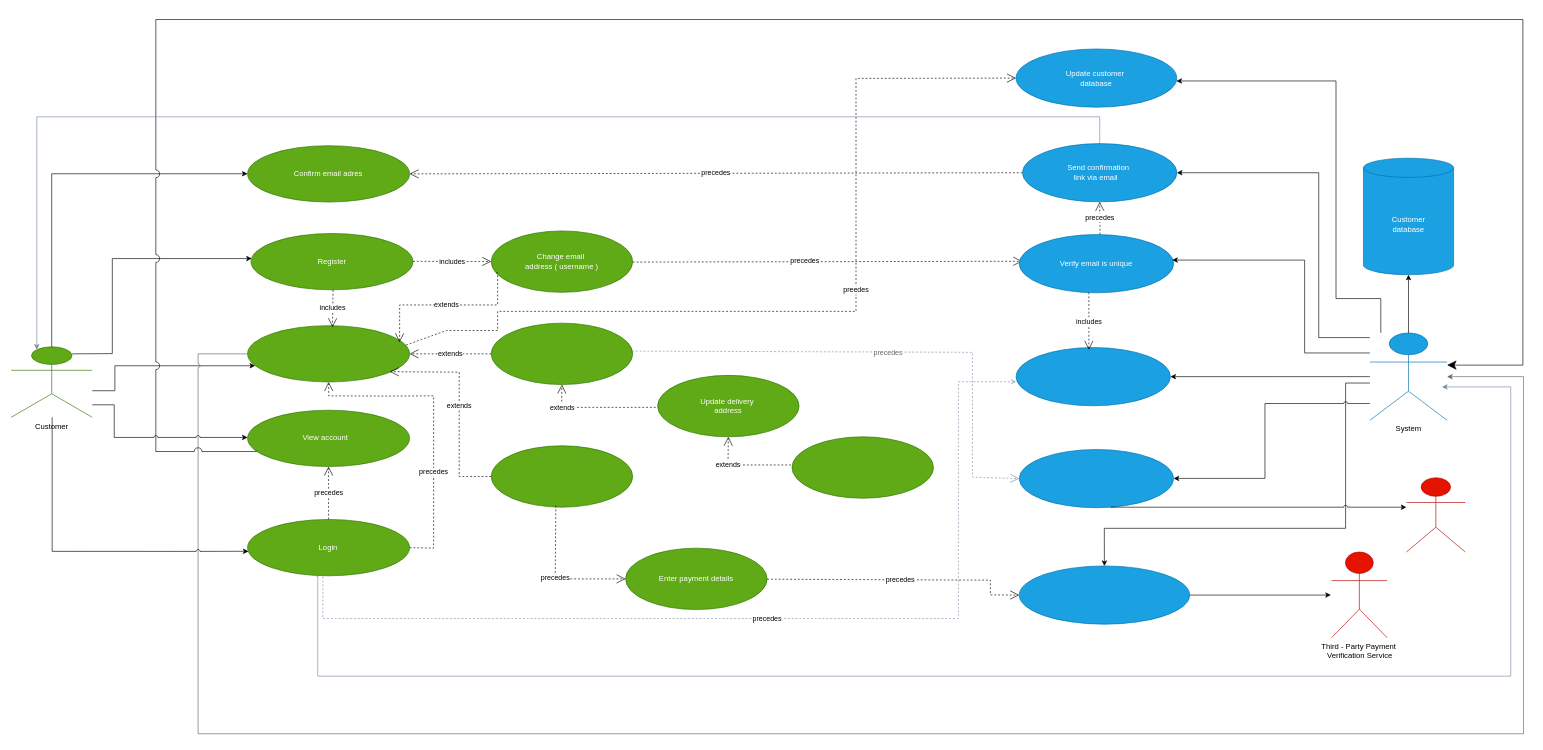
Image size: 1543x750. Some labels were removed from this diagram. The shapes that lost their labels are listed below. From the top down, each one's centre as x and y in pixels, then its label:
At (x=328, y=353): "Update account details".
At (x=562, y=353): "Add delivery address".
At (x=1092, y=376): "Chech for existing account".
At (x=562, y=476): "Add payment method".
At (x=862, y=467): "Delete delivery adress".
At (x=1096, y=478): "Verify valid address".
At (x=1104, y=594): "Verify credit card details".
